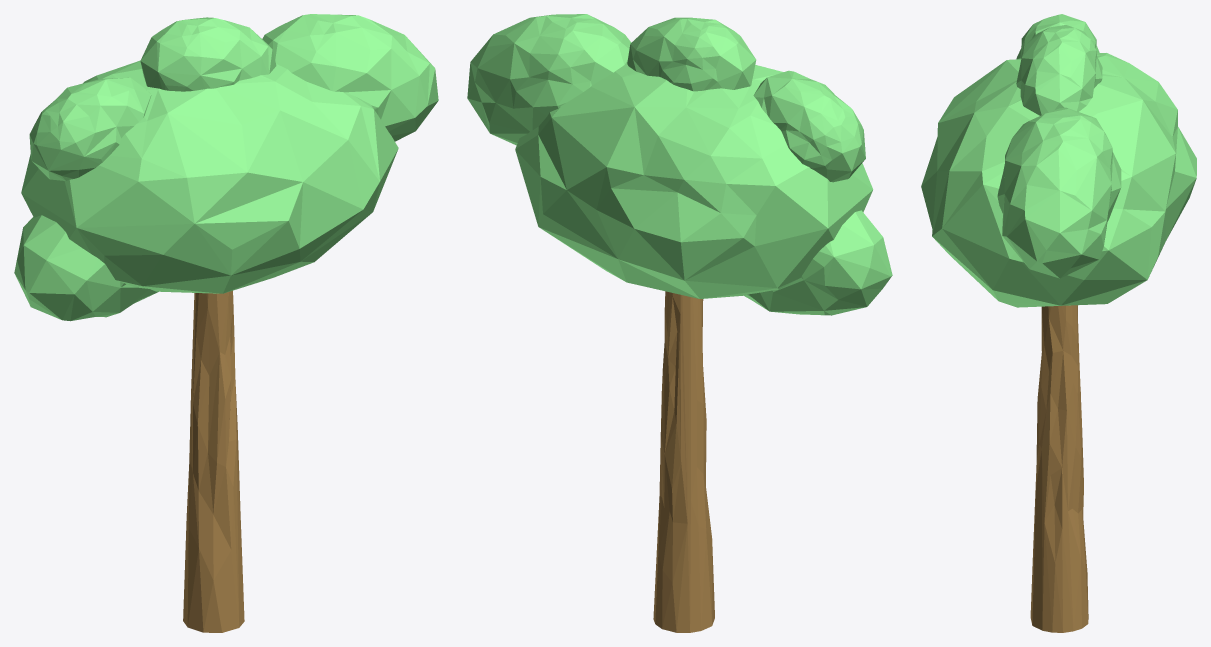
The model's file is pohon2.fbx.
The picture shows the model from 3 angles, left to right: view 1: azimuth 30°, elevation 25°; view 2: azimuth 150°, elevation 25°; view 3: azimuth 270°, elevation 25°; orthographic projection. The views are drawn at different scales.
Parts seen in each view (by area): view 1: Cylinder.011; view 2: Cylinder.011; view 3: Cylinder.011.
Boxes of the visible parts, left/top/right/bottom form: Cylinder.011: left=14, top=14, right=438, bottom=632; Cylinder.011: left=467, top=14, right=892, bottom=632; Cylinder.011: left=921, top=14, right=1196, bottom=632.
Size of the model in its own units: 458 by 1065 by 762.
